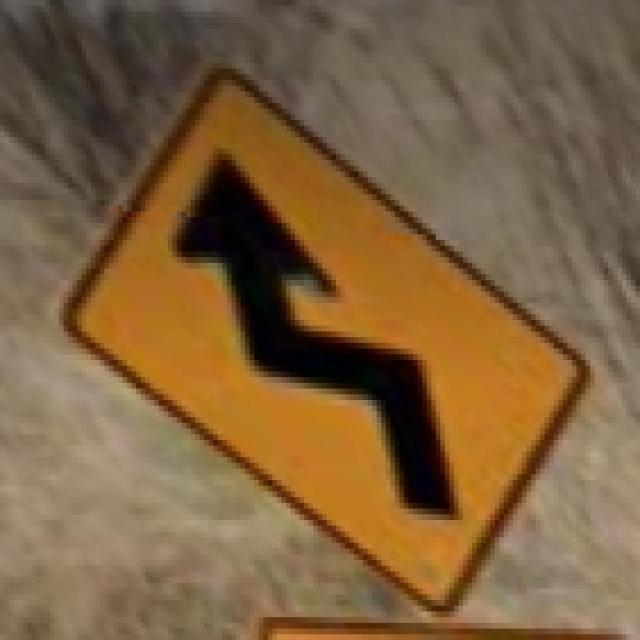Tikungan Ganda Pertama Ke Kiri: (50, 52, 595, 618)
